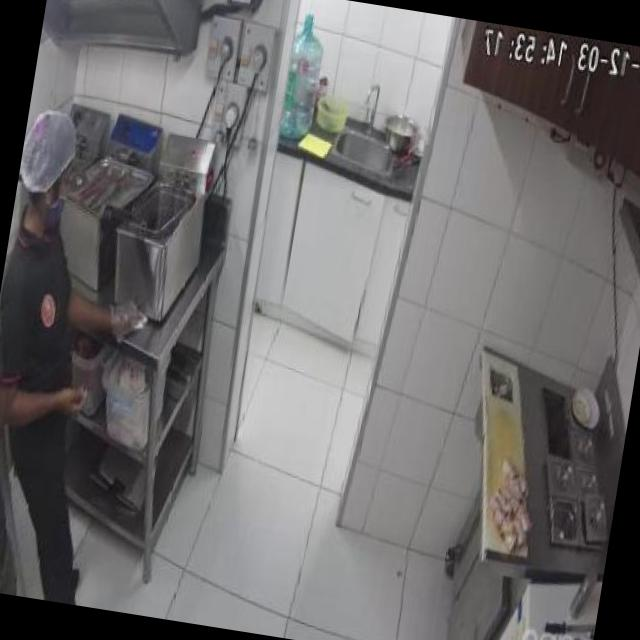hairnet: (18, 109, 77, 190)
